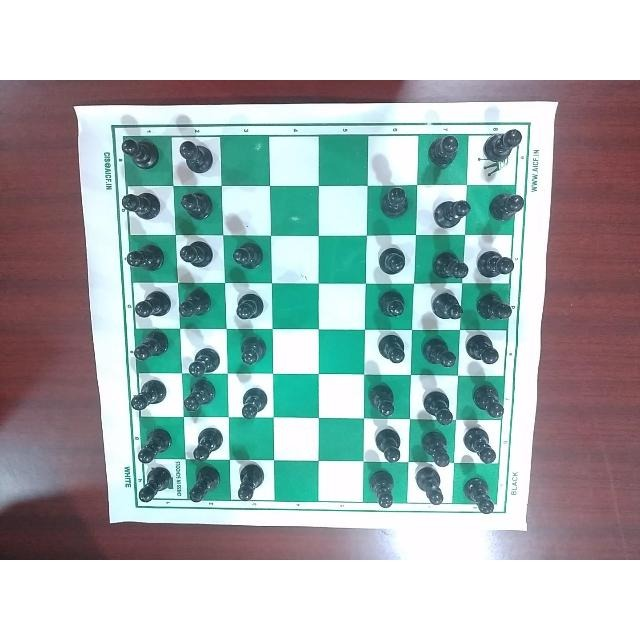black-pawn: (115, 134, 162, 172), (461, 475, 503, 517), (176, 134, 216, 178), (421, 330, 461, 372), (460, 422, 500, 463), (235, 462, 272, 506), (410, 469, 449, 510), (474, 286, 516, 324), (480, 128, 523, 164), (372, 184, 412, 222), (134, 424, 172, 464), (123, 241, 165, 277), (174, 234, 216, 270), (116, 188, 160, 222), (129, 376, 167, 414), (140, 468, 178, 506), (178, 281, 214, 321), (473, 380, 509, 420), (191, 424, 227, 464), (129, 291, 173, 323), (430, 287, 467, 325), (420, 387, 456, 426), (367, 467, 399, 510), (433, 194, 471, 230), (189, 466, 221, 507), (131, 332, 173, 363), (488, 188, 524, 224), (466, 331, 502, 367), (476, 247, 516, 279), (368, 380, 400, 420), (229, 237, 264, 273), (377, 330, 412, 366), (419, 431, 454, 467), (430, 248, 469, 280), (183, 343, 218, 378), (370, 426, 405, 461), (179, 190, 215, 224), (374, 286, 410, 320), (429, 132, 461, 170), (236, 332, 269, 367), (375, 241, 407, 277), (234, 289, 266, 323), (239, 384, 269, 420), (186, 378, 218, 411)
